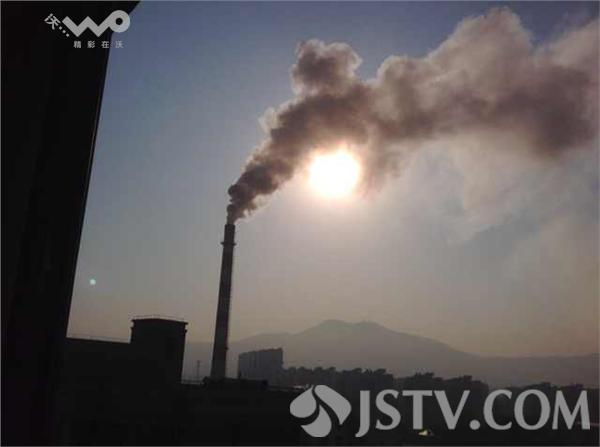dust: (204, 81, 346, 246)
